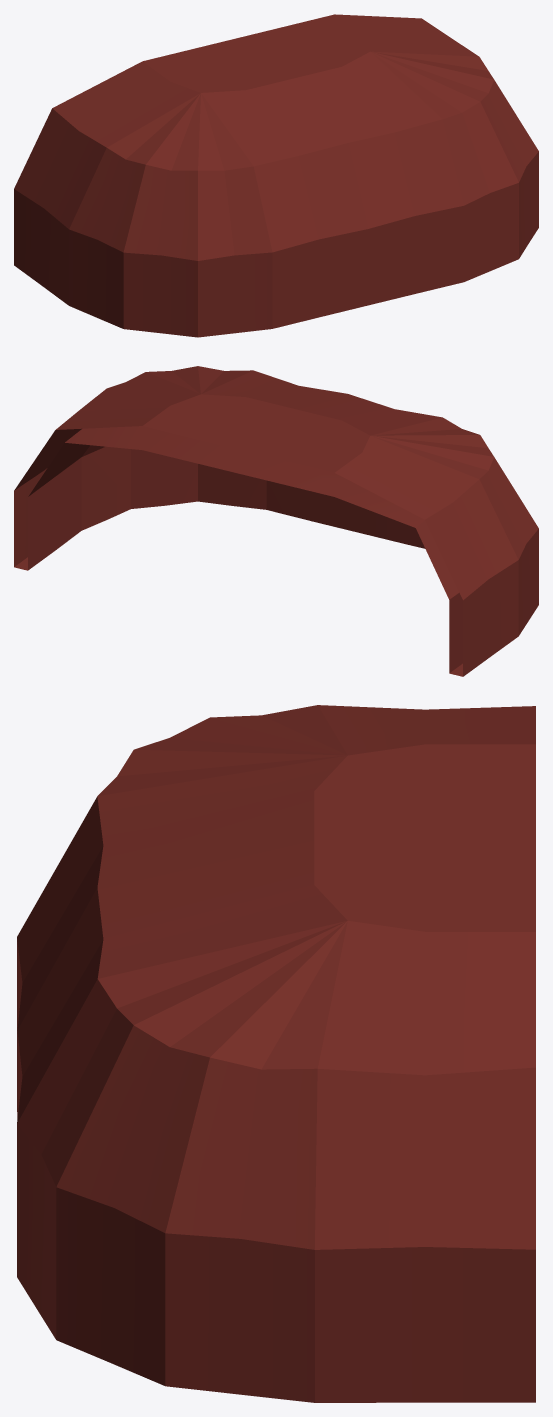
The model's file is SM_Bld_Awning_04_Small.obj.
3 renders of one model, top to bottom at view 1: azimuth 30°, elevation 25°; view 2: azimuth 150°, elevation 25°; view 3: azimuth 270°, elevation 25°, orthographic. The views are drawn at different scales.
Visible parts, largest first — view 1: SM_Bld_Awning_04_Small_0; view 2: SM_Bld_Awning_04_Small_0; view 3: SM_Bld_Awning_04_Small_0.
Boxes of the visible parts, x1,y1,x2,y2 form: SM_Bld_Awning_04_Small_0: (14,14,538,337); SM_Bld_Awning_04_Small_0: (14,366,538,676); SM_Bld_Awning_04_Small_0: (17,705,535,1402).
Size of the model in its own units: 1.68 by 0.6164 by 0.8396.
Materials: 1 (1 with a texture image).
